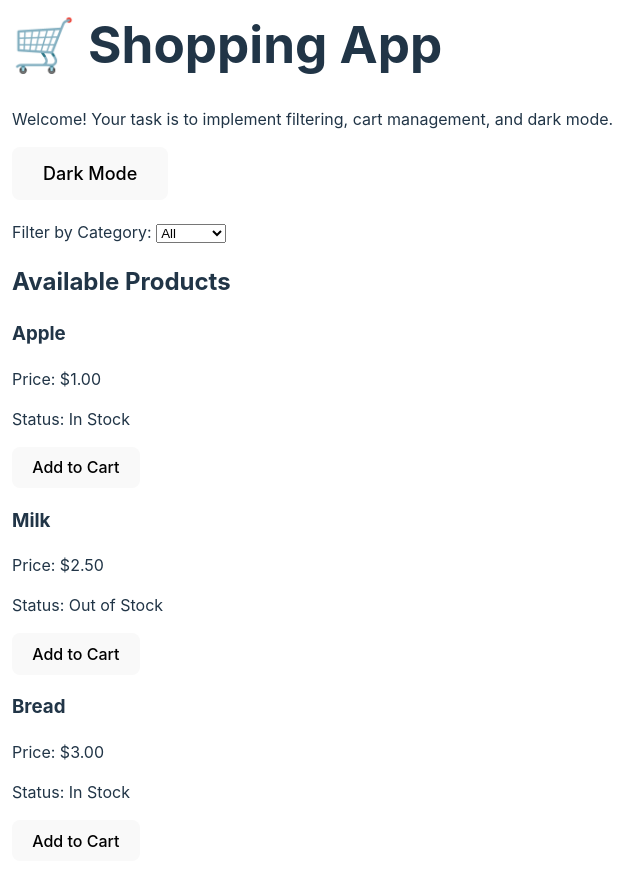
Test: toggles dark mode on button click
This screenshot has width=630, height=882.
Click the button "Dark Mode" at (90, 173), box [12,147,168,200]
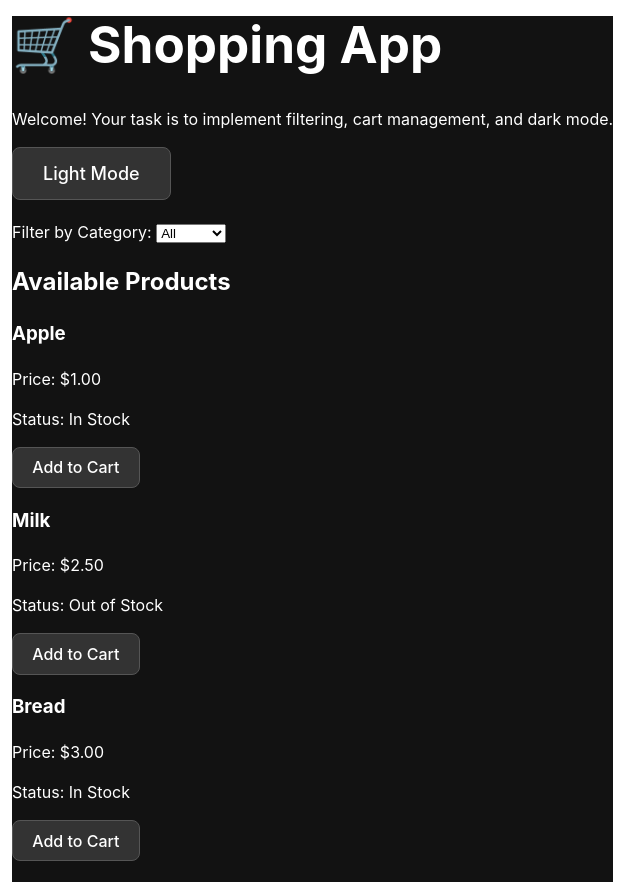
Check: the button "Light Mode" is shown
Click the button "Light Mode" at (91, 173), box [12,147,171,200]
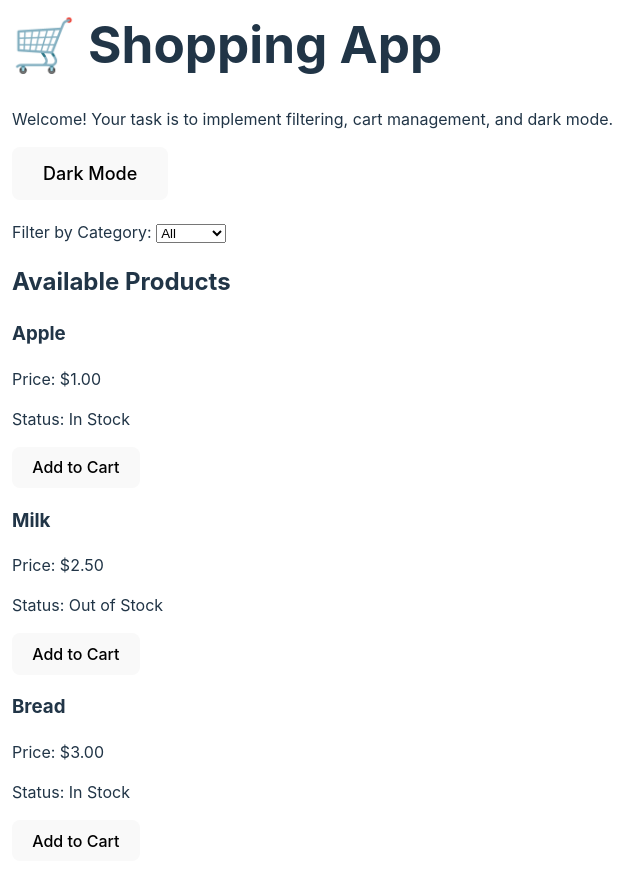
Check: the button "Dark Mode" is shown, box [12,147,168,200]
